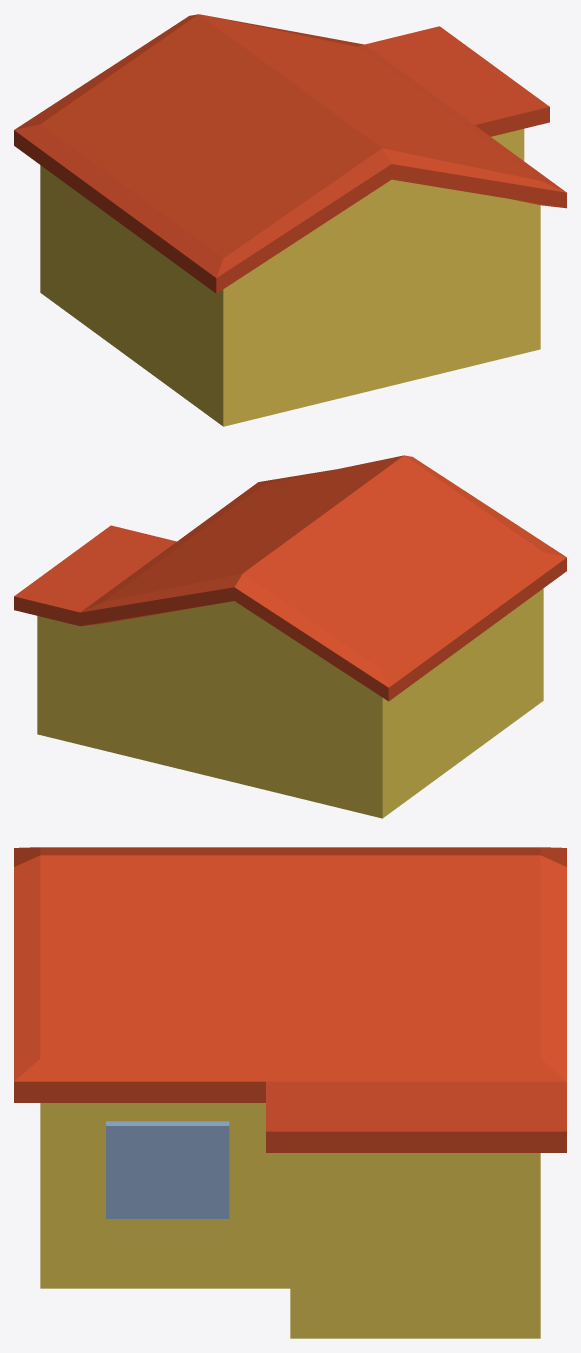
Rendered from HouseXSimpleFix.fbx.
3 views of the same model, one above another, from view 1: azimuth 30°, elevation 25°; view 2: azimuth 150°, elevation 25°; view 3: azimuth 270°, elevation 25° (orthographic). The views are drawn at different scales.
Parts seen in each view (by area): view 1: Cube.007; view 2: Cube.007; view 3: Cube.007.
Boxes of the visible parts, x1=… form: Cube.007: x1=14, y1=14, x2=566, y2=426; Cube.007: x1=14, y1=455, x2=566, y2=818; Cube.007: x1=14, y1=847, x2=566, y2=1338.
Bounding box in the file's own units: 186 × 99.9 × 153.
